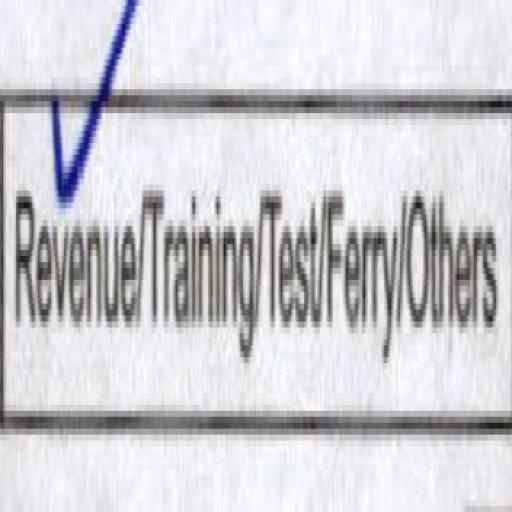check: (0, 0, 140, 450)
